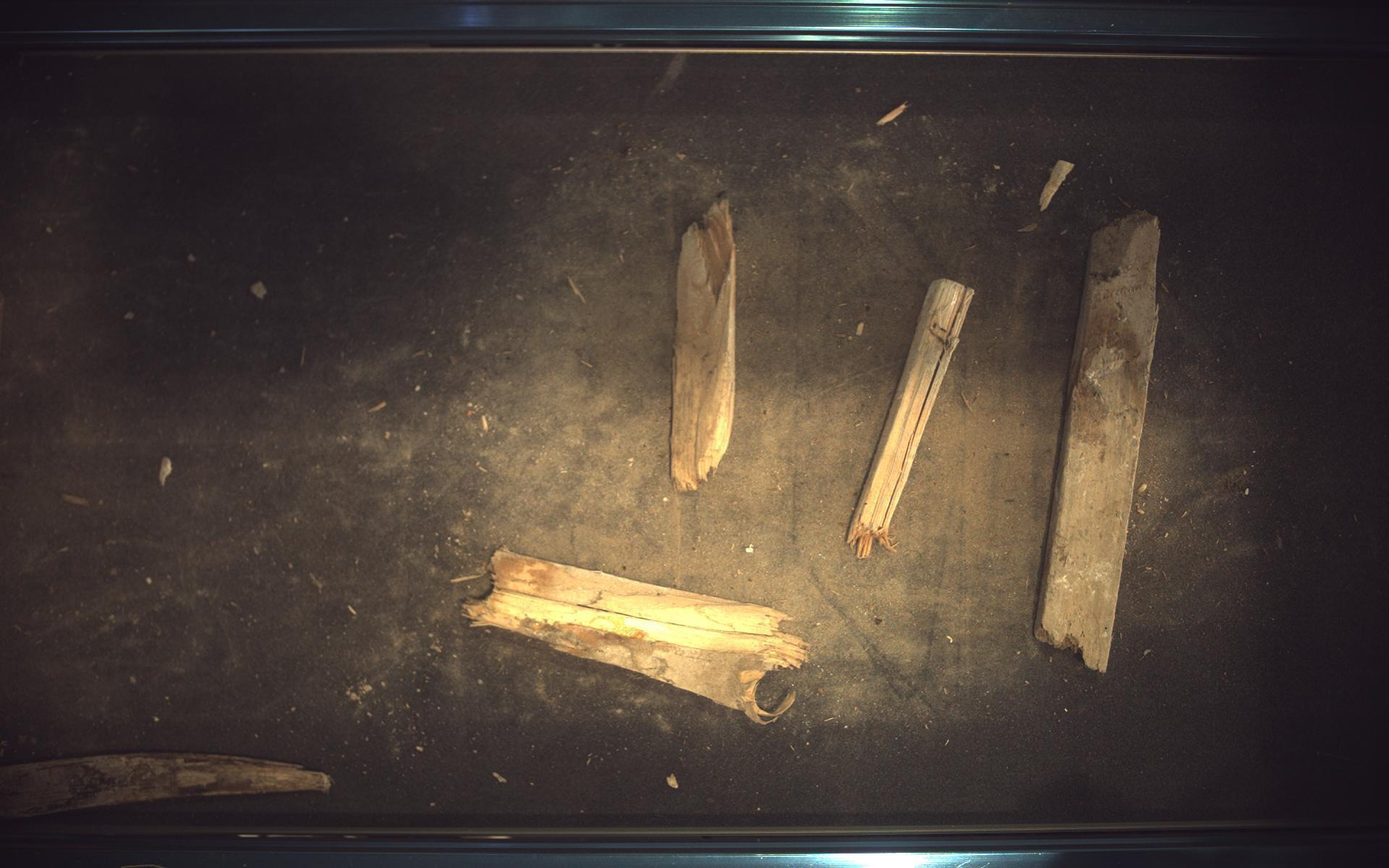wood: (464, 550, 809, 726), (1037, 211, 1163, 673), (849, 278, 976, 559), (1, 754, 331, 820), (671, 197, 737, 491)
